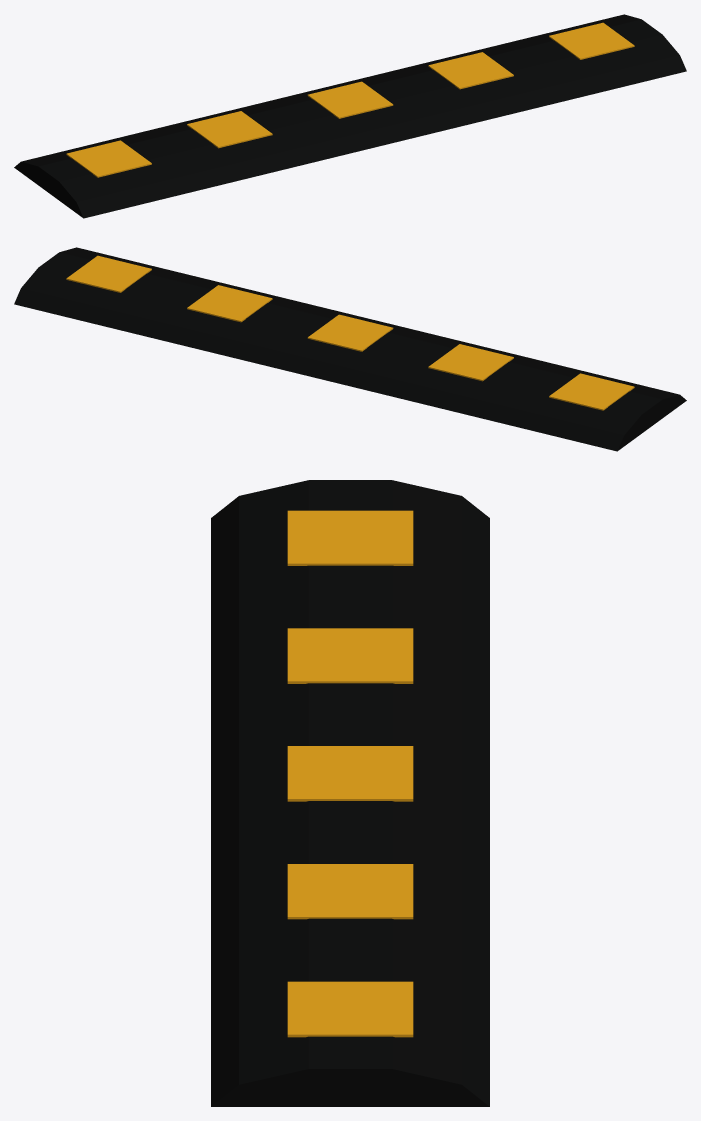
File: OAA_Parking_SpeedBump_2m.fbx
3 renders of one model, top to bottom at view 1: azimuth 30°, elevation 25°; view 2: azimuth 150°, elevation 25°; view 3: azimuth 270°, elevation 25°, orthographic. The views are drawn at different scales.
Visible parts, largest first — view 1: Body; view 2: Body; view 3: Body.
Boxes of the visible parts, bbox=[...] form: Body: bbox=[14, 14, 686, 218]; Body: bbox=[14, 247, 686, 451]; Body: bbox=[211, 480, 489, 1106].
Size of the model in its own units: 2 by 0.063 by 0.4.
